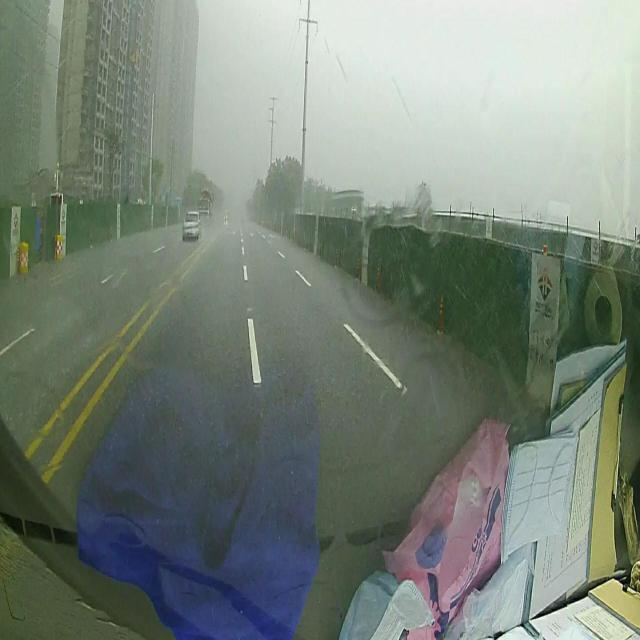car: (180, 210, 200, 240)
